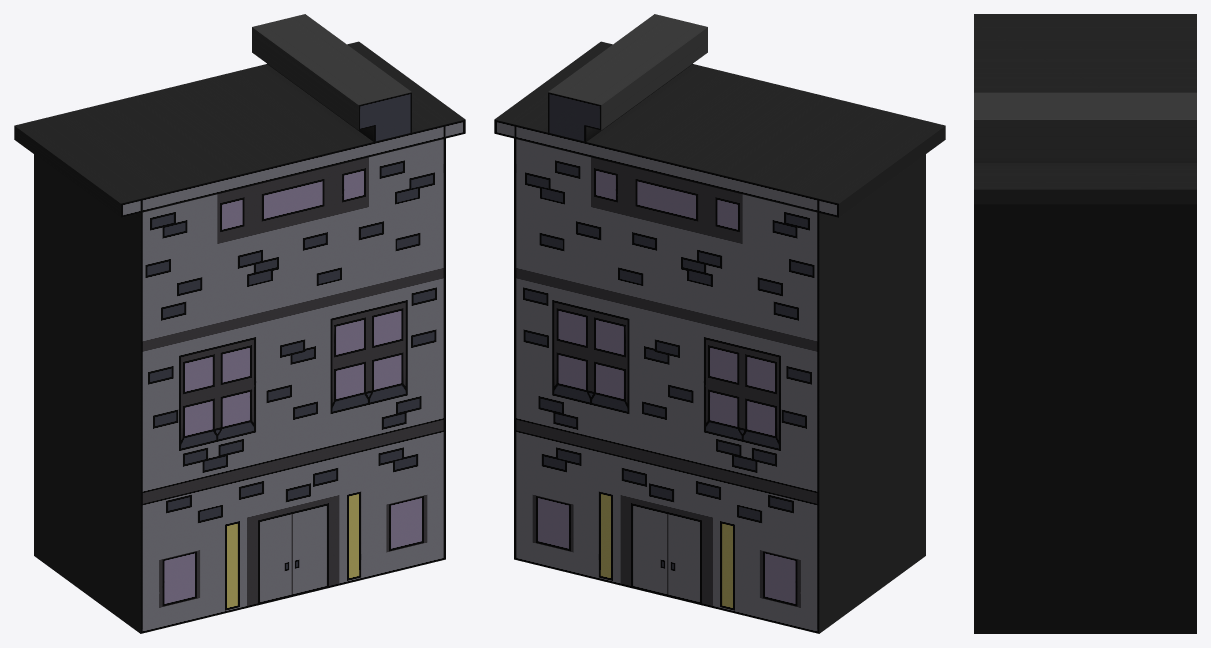
File: building9.fbx
The picture shows the model from 3 angles, left to right: view 1: azimuth 30°, elevation 25°; view 2: azimuth 150°, elevation 25°; view 3: azimuth 270°, elevation 25°; orthographic projection. The views are drawn at different scales.
Visible parts, largest first — view 1: Building9; view 2: Building9; view 3: Building9.
Part boxes in pixels (bbox=[...]): Building9: bbox=[14, 14, 465, 633]; Building9: bbox=[494, 14, 945, 633]; Building9: bbox=[974, 14, 1196, 633].
Bounding box in the file's own units: 218 × 287 × 117.
